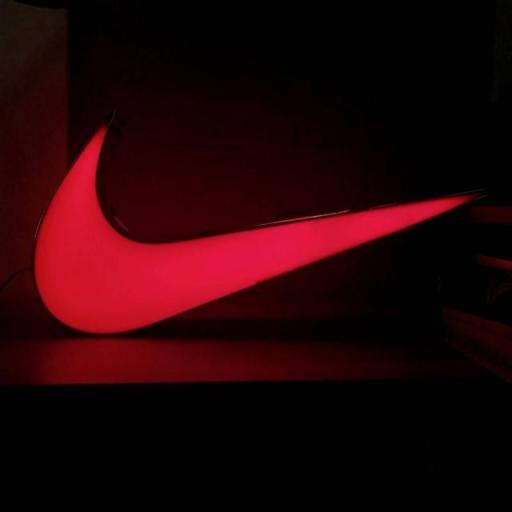Nike: (34, 158, 487, 336)
